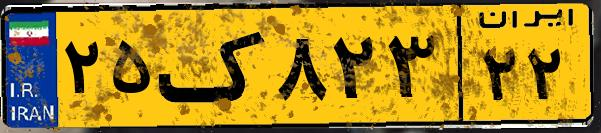2: (330, 28, 385, 110), (57, 26, 110, 100), (475, 38, 525, 113), (525, 38, 570, 115)
3: (385, 28, 445, 110)
5: (110, 28, 158, 98)
8: (270, 28, 330, 110)
ک: (158, 12, 270, 120)
